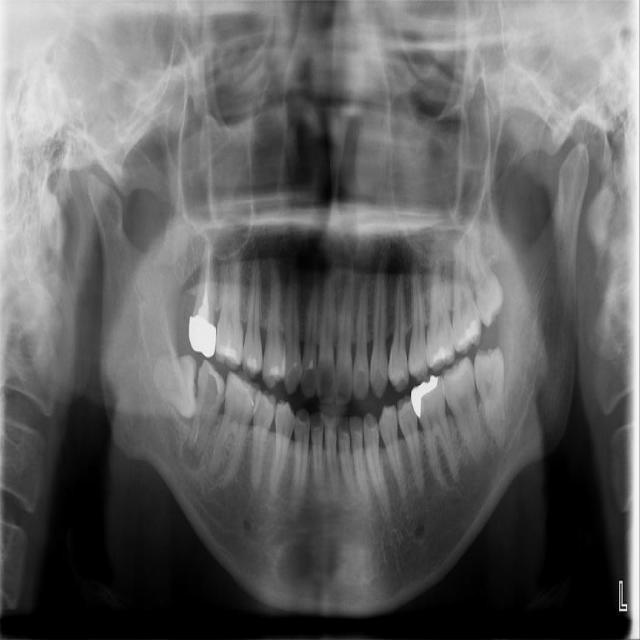Crown: (189, 315, 216, 357)
Filling: (411, 375, 440, 417), (282, 345, 302, 394), (193, 363, 215, 403), (301, 353, 318, 399), (456, 320, 478, 350), (214, 340, 240, 362), (431, 346, 453, 364), (247, 354, 261, 375), (267, 364, 282, 380)
Periapical lesion: (190, 443, 208, 471), (183, 434, 197, 466)
Root Canal Treatment: (200, 247, 210, 316)
impacted tooth: (466, 219, 504, 323), (475, 350, 504, 446), (153, 357, 196, 417)
